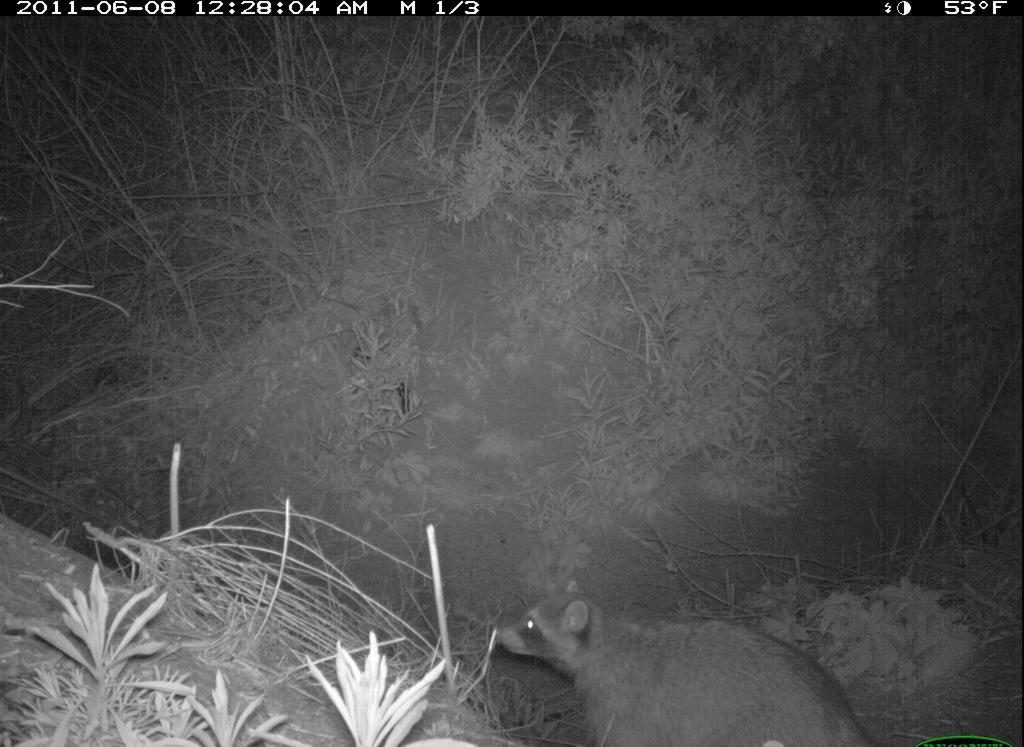raccoon: (481, 579, 872, 747)
